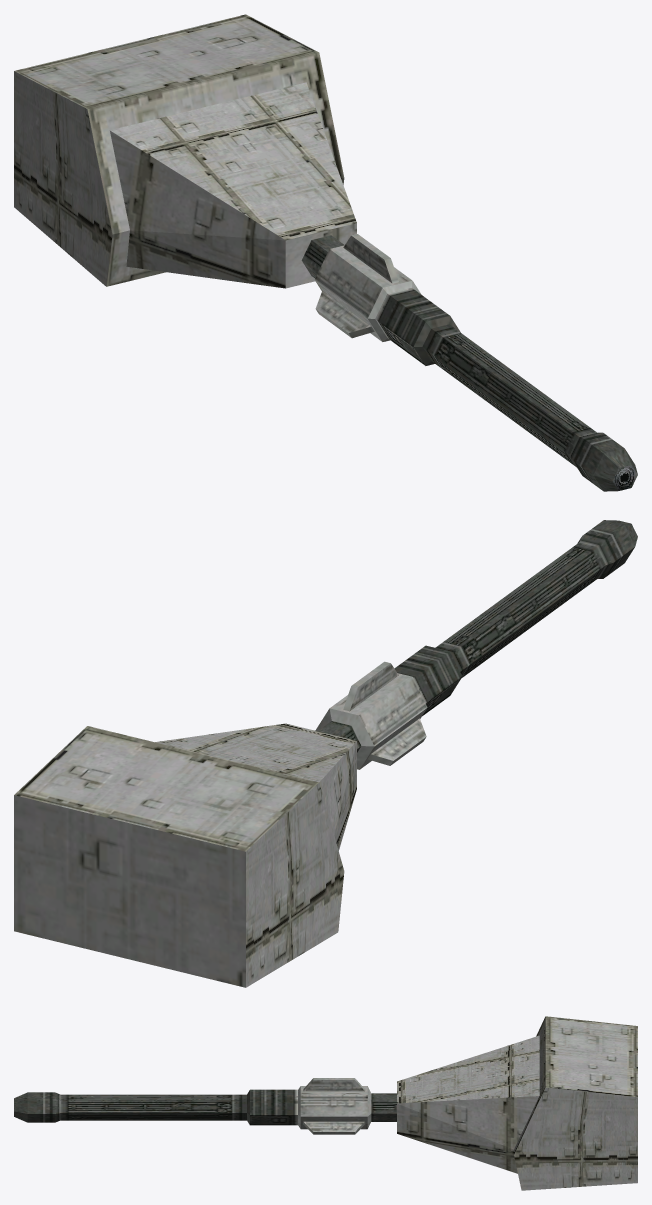
File: ins_all_def_turret_m_s02_barrel_l0.fbx
3 renders of one model, top to bottom at view 1: azimuth 30°, elevation 25°; view 2: azimuth 150°, elevation 25°; view 3: azimuth 270°, elevation 25°, orthographic. The views are drawn at different scales.
Parts seen in each view (by area): view 1: mesh_node; view 2: mesh_node; view 3: mesh_node.
Part boxes in pixels (box(x1,y1,x2,y2)): mesh_node: box(14, 14, 637, 491); mesh_node: box(14, 520, 637, 987); mesh_node: box(14, 1016, 637, 1190).
Size of the model in its own units: 0.8459 by 0.571 by 3.13.
